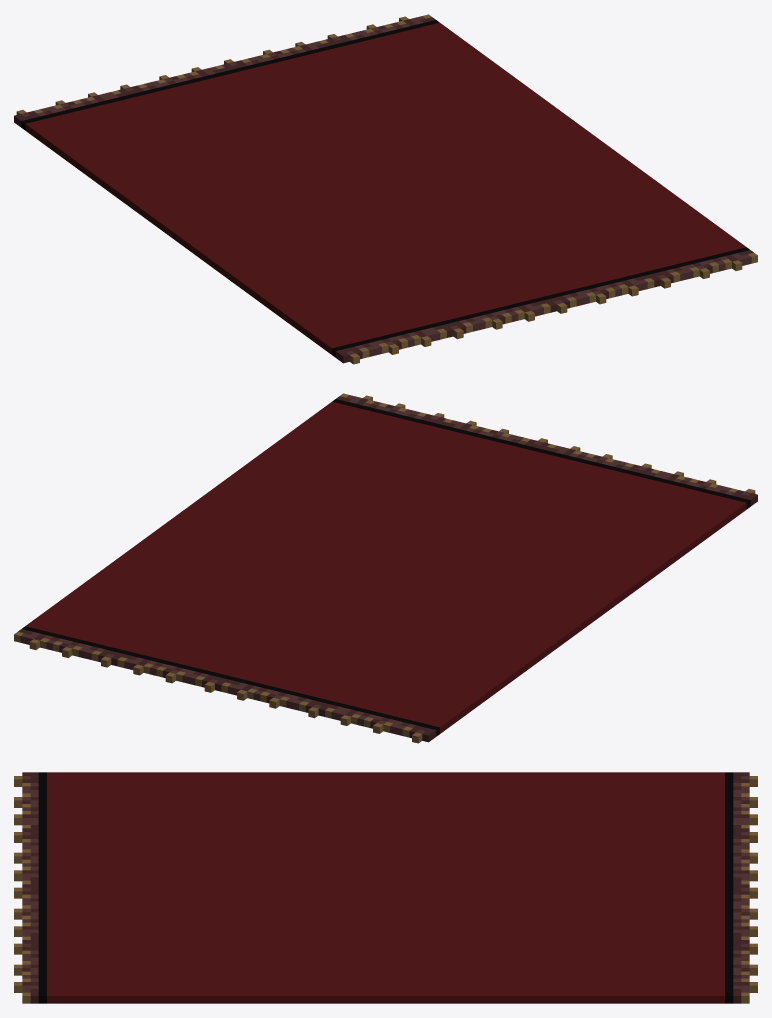
The model's file is MaroonCarpet.obj.
The picture shows the model from 3 angles, top to bottom: view 1: azimuth 30°, elevation 25°; view 2: azimuth 150°, elevation 25°; view 3: azimuth 270°, elevation 25°; orthographic projection. The views are drawn at different scales.
Visible parts, largest first — view 1: MaroonCarpet; view 2: MaroonCarpet; view 3: MaroonCarpet.
Boxes of the visible parts, x1,y1,x2,y2 form: MaroonCarpet: (14, 14, 757, 364); MaroonCarpet: (14, 393, 757, 743); MaroonCarpet: (14, 772, 757, 1003).
Size of the model in its own units: 6.4 by 0.1 by 9.
Materials: 1 (1 with a texture image).
